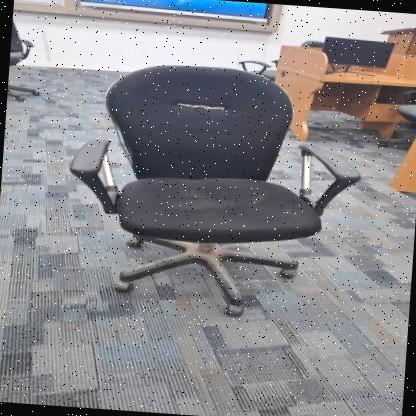chair: (56, 43, 380, 327)
